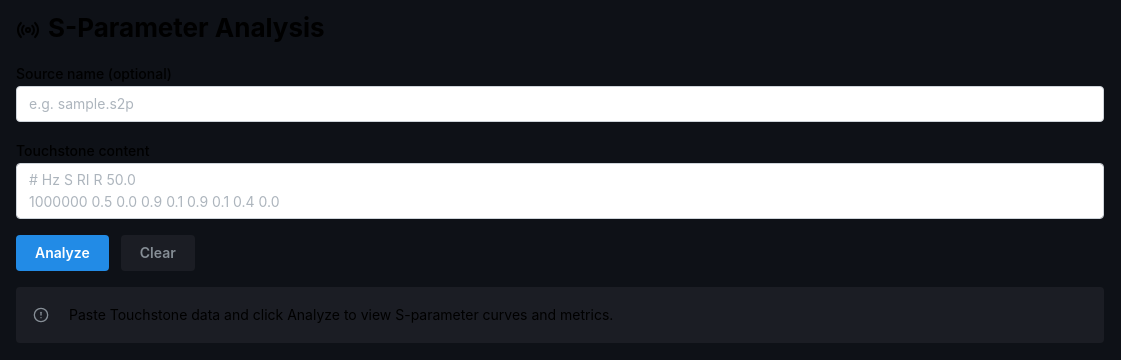
Test: SParameterAnalysisScreen › shows error when analyzing empty content
Click the button "Analyze" at (62, 253), box [16,235,109,271]
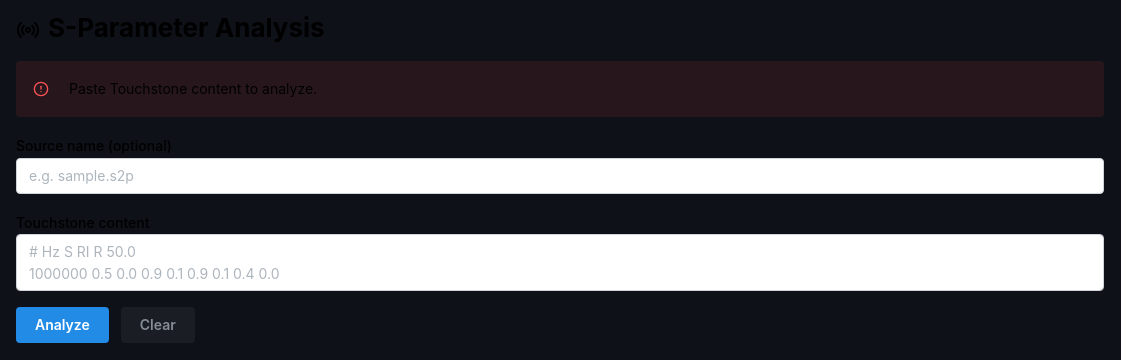
Expected: the text "Paste Touchstone content to analyze." is shown, [69,80,317,97]
